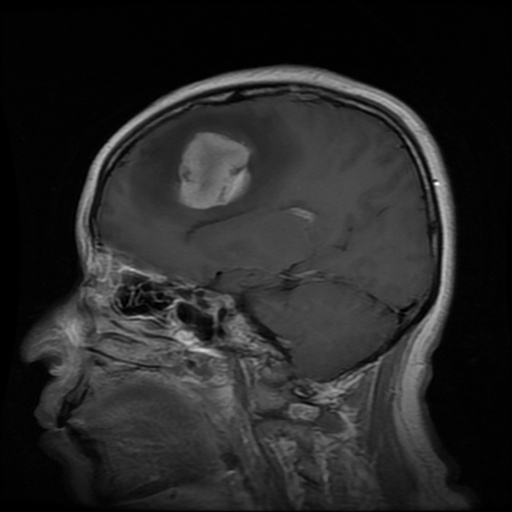meningioma: (178, 131, 250, 208)
